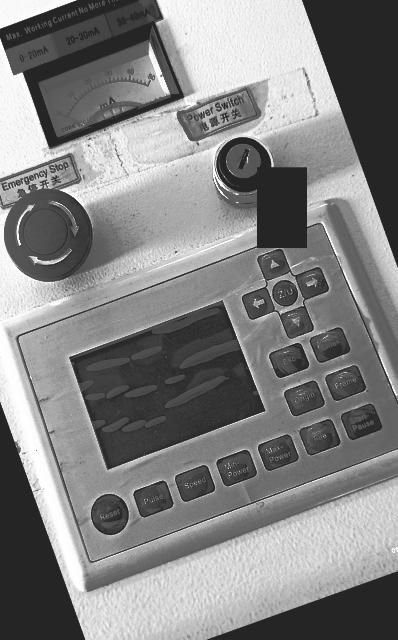Amp_Meter: (38, 26, 181, 140)
Display: (72, 302, 264, 469)
Down_button: (296, 324, 299, 327)
Emergency_Stop: (4, 189, 93, 281)
Enter_button: (310, 328, 350, 362)
Esc_button: (270, 344, 309, 377)
File_button: (300, 419, 340, 455)
Frame_button: (326, 366, 366, 400)
Left_button: (242, 288, 274, 319)
Max-Power_button: (259, 435, 298, 471)
Min-Power_button: (217, 451, 256, 486)
Origin_button: (285, 381, 324, 416)
Power_switch: (213, 137, 271, 207)
Pulse_button: (134, 481, 173, 517)
Reset_button: (91, 495, 128, 534)
Right_button: (296, 268, 328, 299)
Speed_button: (176, 466, 215, 501)
Start-Pause_button: (342, 404, 382, 440)
Up_button: (258, 250, 290, 280)
Z_U_button: (273, 280, 298, 306)
